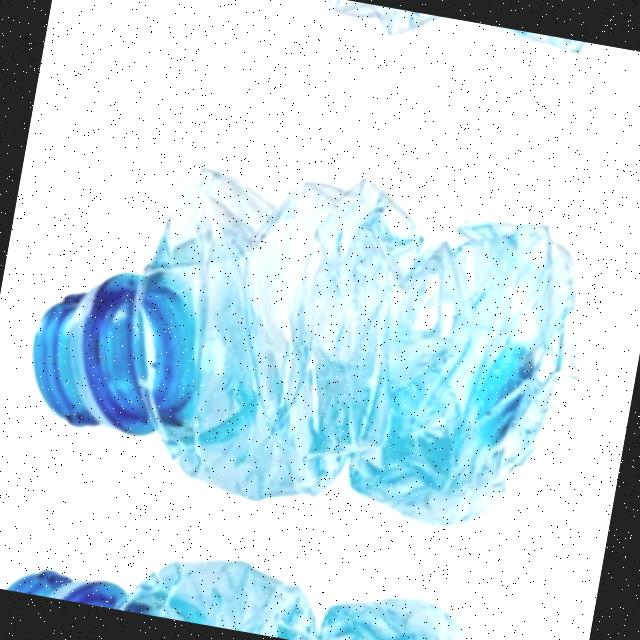Plastic: (0, 81, 628, 562), (0, 507, 554, 640), (69, 0, 640, 121)
